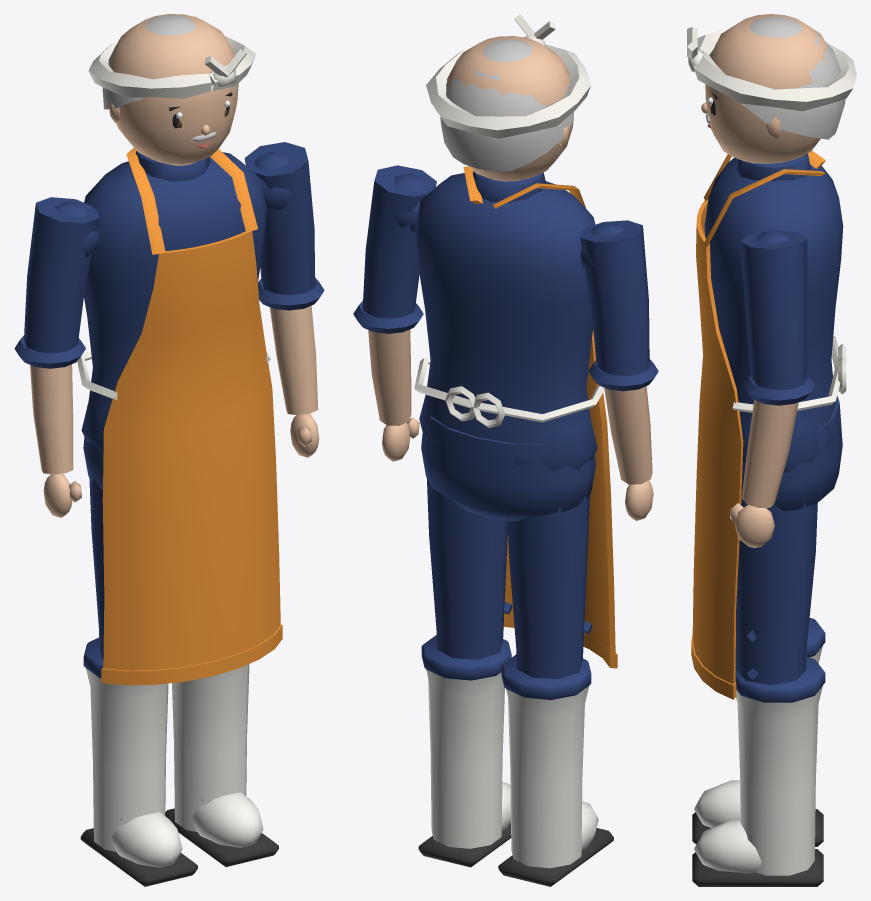
Rendered from fisherman.glb.
The picture shows the model from 3 angles, left to right: view 1: azimuth 30°, elevation 25°; view 2: azimuth 150°, elevation 25°; view 3: azimuth 270°, elevation 25°; orthographic projection. The views are drawn at different scales.
Parts seen in each view (by area): view 1: fisherman_body, fisherman_leg_l, fisherman_arm_l, fisherman_leg_r, fisherman_arm_r; view 2: fisherman_body, fisherman_leg_l, fisherman_leg_r, fisherman_arm_l, fisherman_arm_r; view 3: fisherman_body, fisherman_leg_r, fisherman_arm_r, fisherman_leg_l.
Part boxes in pixels (x1,y1,x2,y2): fisherman_body: (77,14,282,685); fisherman_leg_l: (80,478,197,886); fisherman_arm_l: (14,197,99,517); fisherman_leg_r: (165,664,278,866); fisherman_arm_r: (244,142,324,457); fisherman_body: (414,14,617,668); fisherman_leg_l: (498,495,613,886); fisherman_leg_r: (418,474,512,867); fisherman_arm_l: (580,220,658,520); fisherman_arm_r: (353,165,436,461); fisherman_body: (687,14,856,699); fisherman_leg_r: (692,501,825,886); fisherman_arm_r: (730,230,815,547); fisherman_leg_l: (692,618,825,846).
Bounding box in the file's own units: 0.6814 × 1.78 × 0.3294.
